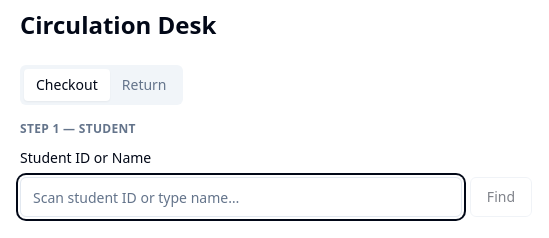
Scenario: ReturnTab › shows error when barcode not found
Click the tab "Return".
click(144, 85)  # box 110,69 -> 179,101
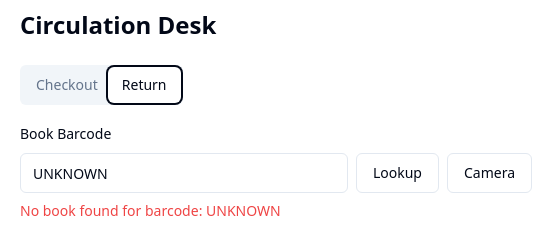
expect the text "No book found for barcode: UNKNOWN" is shown: met, box 20,201 -> 281,220
